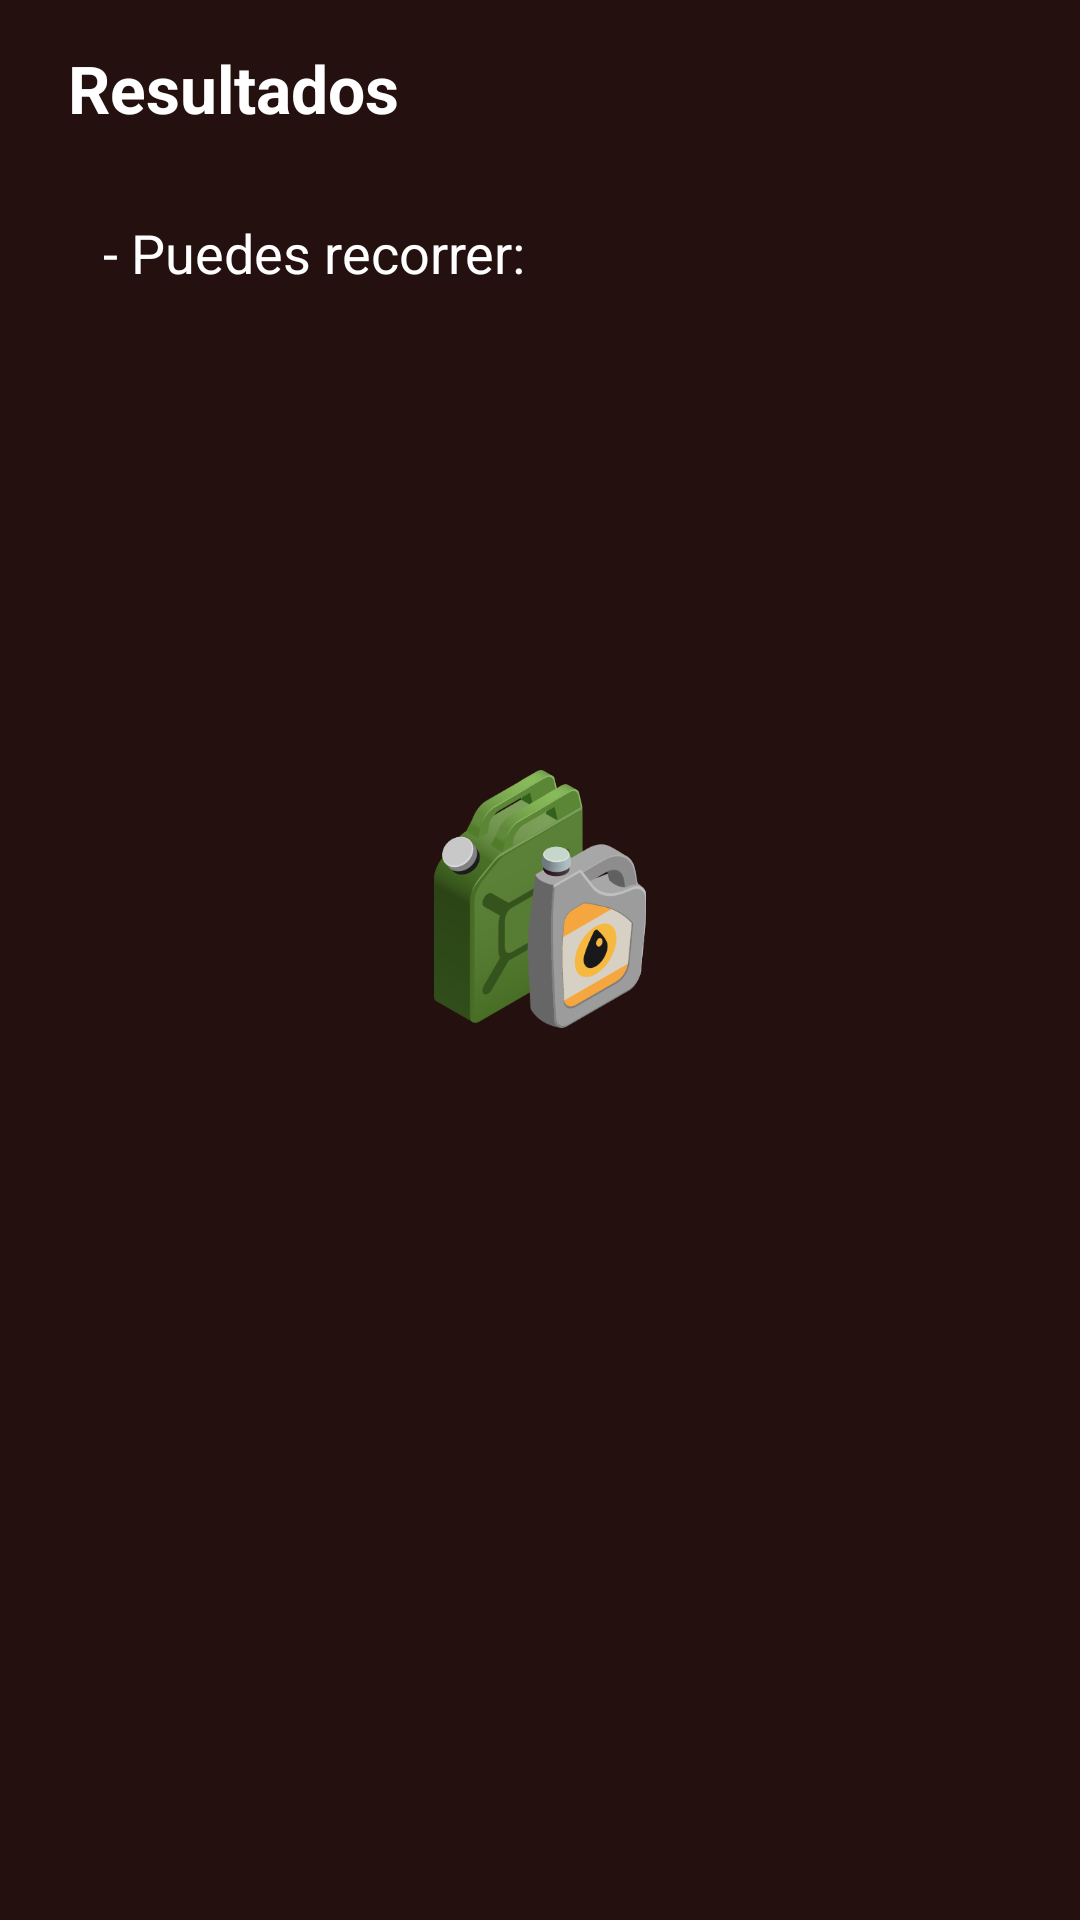

Screen size 1080×1920. Icon name, then its center in pixels as point (x, y):
jerrycan: point (540, 899)
